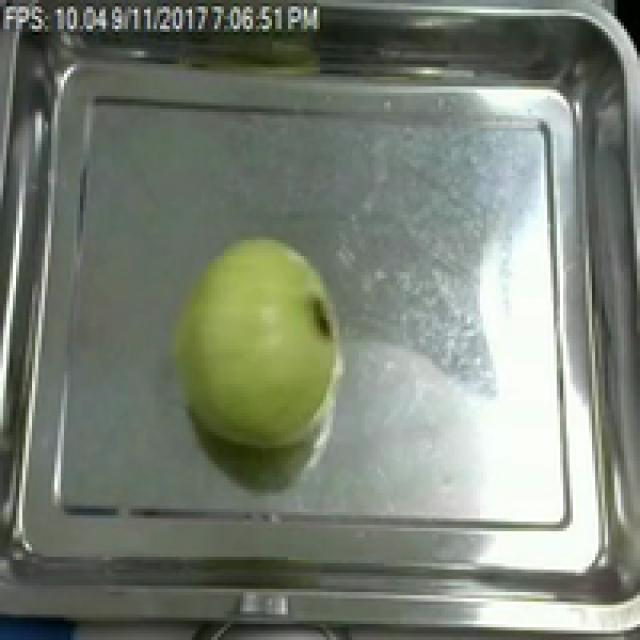Fruit: (157, 227, 352, 461)
